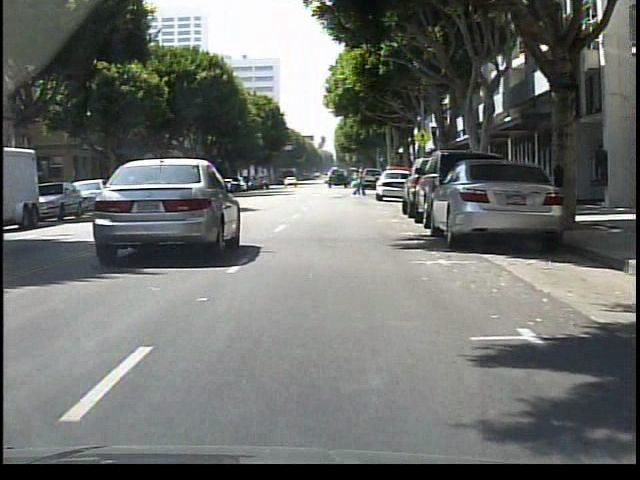person: (352, 167, 367, 195)
